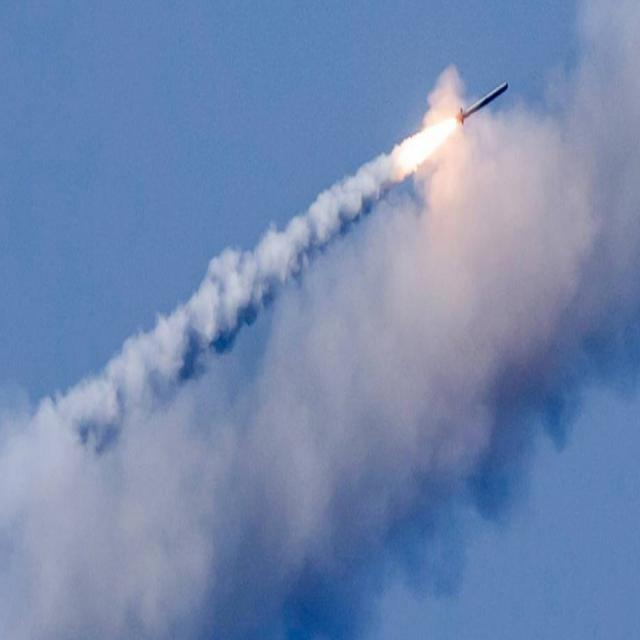missile: (453, 76, 516, 131)
